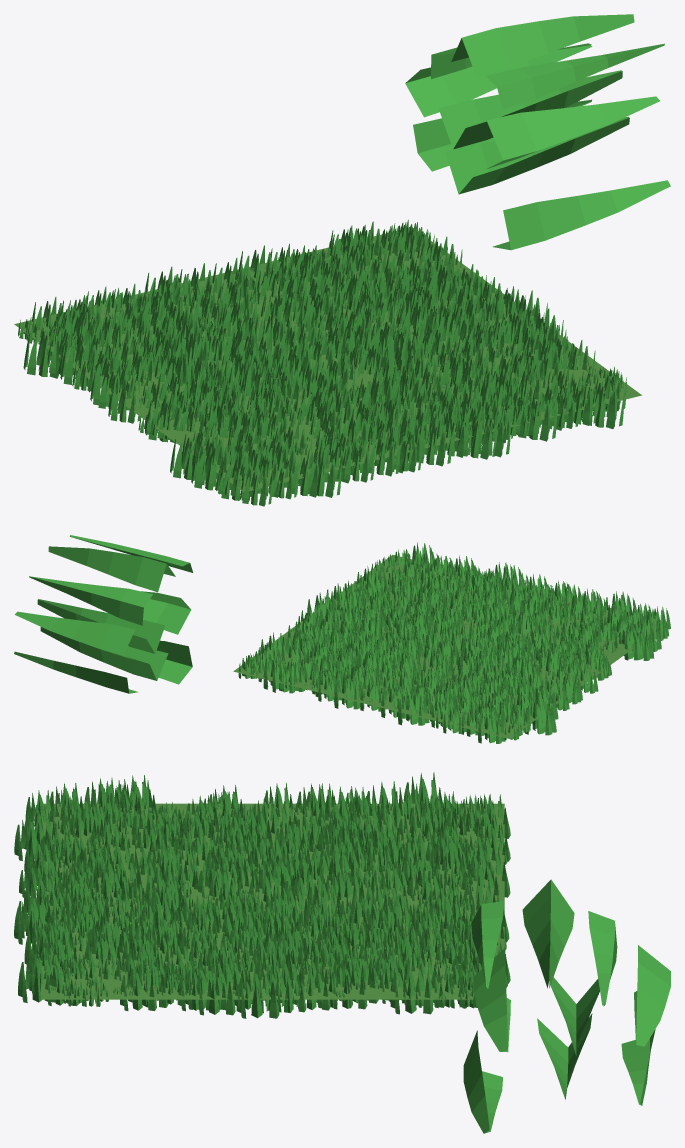
Rendered from grass.fbx.
3 renders of one model, top to bottom at view 1: azimuth 30°, elevation 25°; view 2: azimuth 150°, elevation 25°; view 3: azimuth 270°, elevation 25°, orthographic. The views are drawn at different scales.
Visible parts, largest first — view 1: Plane.001, Plane.009, Plane.009|Plane.001|Dupli|334, Plane.009|Plane.001|Dupli|503, Plane.009|Plane.001|Dupli|978, Plane.009|Plane.001|Dupli|10, Plane.009|Plane.001|Dupli|193, Plane.009|Plane.001|Dupli|771, Plane.009|Plane.001|Dupli|428, Plane.009|Plane.001|Dupli|617, Plane.009|Plane.001|Dupli|767, Plane.009|Plane.001|Dupli|618 (+2 smaller); view 2: Plane.001, Plane.009, Plane.009|Plane.001|Dupli|334, Plane.009|Plane.001|Dupli|113, Plane.009|Plane.001|Dupli|555, Plane.009|Plane.001|Dupli|840, Plane.009|Plane.001|Dupli|509, Plane.009|Plane.001|Dupli|618, Plane.009|Plane.001|Dupli|361, Plane.009|Plane.001|Dupli|374, Plane.009|Plane.001|Dupli|359, Plane.009|Plane.001|Dupli|83 (+2 smaller); view 3: Plane.009, Plane.001, Plane.009|Plane.001|Dupli|621, Plane.009|Plane.001|Dupli|543, Plane.009|Plane.001|Dupli|503, Plane.009|Plane.001|Dupli|356, Plane.009|Plane.001|Dupli|393, Plane.009|Plane.001|Dupli|428, Plane.009|Plane.001|Dupli|771, Plane.009|Plane.001|Dupli|660, Plane.009|Plane.001|Dupli|801, Plane.009|Plane.001|Dupli|305 (+3 smaller).
Part boxes in pixels (x1,y1,x2,y2): Plane.001: (405, 14, 670, 250); Plane.009: (14, 227, 641, 492); Plane.009|Plane.001|Dupli|334: (23, 326, 68, 378); Plane.009|Plane.001|Dupli|503: (581, 378, 624, 428); Plane.009|Plane.001|Dupli|978: (191, 444, 232, 490); Plane.009|Plane.001|Dupli|10: (457, 413, 497, 459); Plane.009|Plane.001|Dupli|193: (415, 421, 452, 466); Plane.009|Plane.001|Dupli|771: (470, 410, 511, 457); Plane.009|Plane.001|Dupli|428: (307, 452, 341, 497); Plane.009|Plane.001|Dupli|617: (289, 453, 325, 497); Plane.009|Plane.001|Dupli|767: (517, 393, 557, 441); Plane.009|Plane.001|Dupli|618: (170, 433, 204, 479); Plane.001: (14, 535, 192, 693); Plane.009: (233, 555, 668, 738); Plane.009|Plane.001|Dupli|334: (525, 701, 556, 735); Plane.009|Plane.001|Dupli|113: (398, 692, 429, 725); Plane.009|Plane.001|Dupli|555: (334, 677, 364, 709); Plane.009|Plane.001|Dupli|840: (478, 714, 505, 743); Plane.009|Plane.001|Dupli|509: (614, 628, 644, 660); Plane.009|Plane.001|Dupli|618: (624, 629, 654, 660); Plane.009|Plane.001|Dupli|361: (381, 686, 409, 718); Plane.009|Plane.001|Dupli|374: (360, 682, 387, 711); Plane.009|Plane.001|Dupli|359: (578, 648, 608, 680); Plane.009|Plane.001|Dupli|83: (575, 668, 598, 693); Plane.009: (41, 803, 504, 999); Plane.001: (463, 879, 670, 1133); Plane.009|Plane.001|Dupli|621: (236, 967, 279, 1018); Plane.009|Plane.001|Dupli|543: (390, 962, 433, 1014); Plane.009|Plane.001|Dupli|503: (18, 952, 57, 1002); Plane.009|Plane.001|Dupli|356: (196, 966, 235, 1015); Plane.009|Plane.001|Dupli|393: (120, 966, 156, 1010); Plane.009|Plane.001|Dupli|428: (14, 816, 47, 860); Plane.009|Plane.001|Dupli|771: (14, 898, 49, 944); Plane.009|Plane.001|Dupli|660: (331, 963, 367, 1009); Plane.009|Plane.001|Dupli|801: (294, 966, 330, 1010); Plane.009|Plane.001|Dupli|305: (128, 959, 168, 1007).
Bounding box in the file's own units: 270 × 74.35 × 226.
